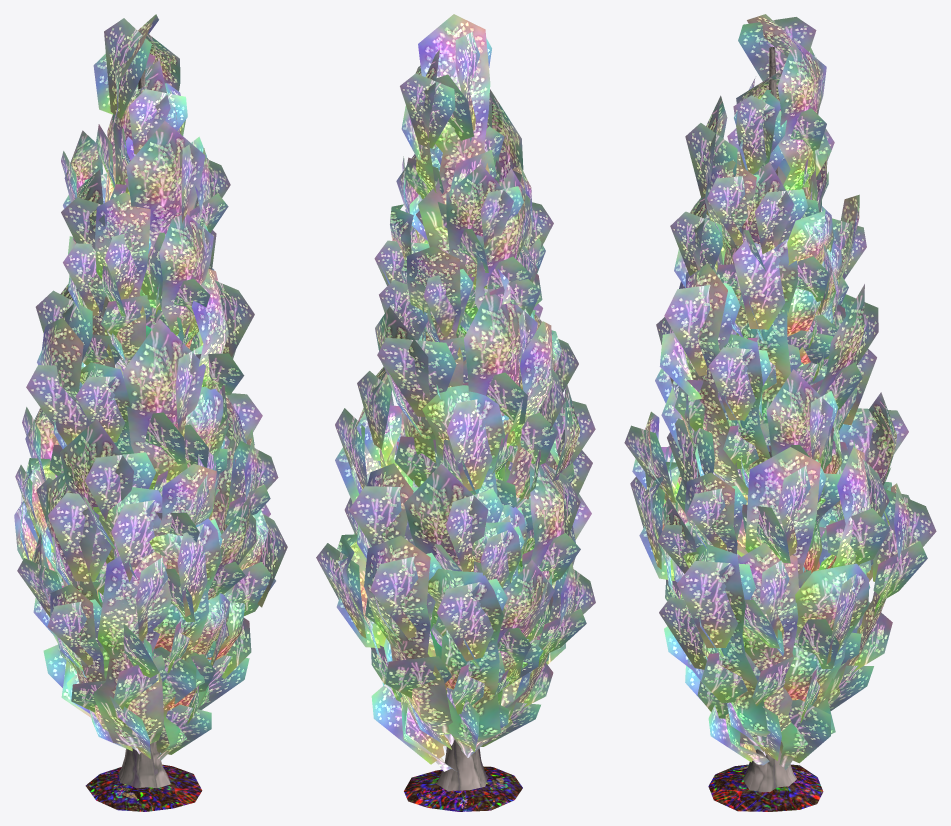
File: poplar_02_SM.fbx
3 renders of one model, left to right at view 1: azimuth 30°, elevation 25°; view 2: azimuth 150°, elevation 25°; view 3: azimuth 270°, elevation 25°, orthographic.
Parts seen in each view (by area): view 1: poplar_02_SM_LOD0; view 2: poplar_02_SM_LOD0; view 3: poplar_02_SM_LOD0.
Boxes of the visible parts, <box> form: poplar_02_SM_LOD0: <box>14,14,287,811</box>; poplar_02_SM_LOD0: <box>316,14,595,811</box>; poplar_02_SM_LOD0: <box>624,14,936,811</box>.
Bounding box in the file's own units: 738 × 830 × 2315.
Materials: 3 (3 with a texture image).
